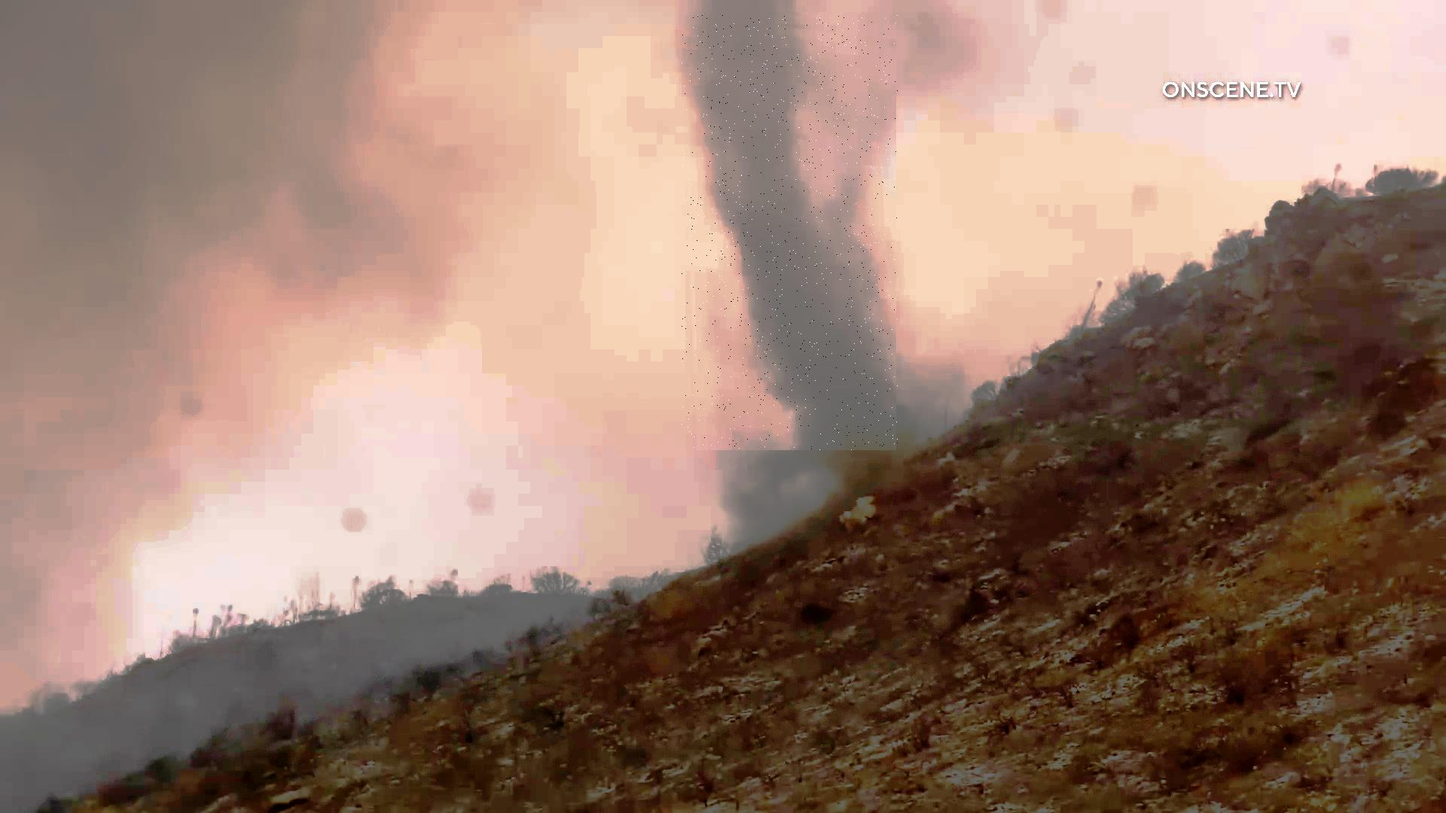smoke: (682, 15, 898, 451)
